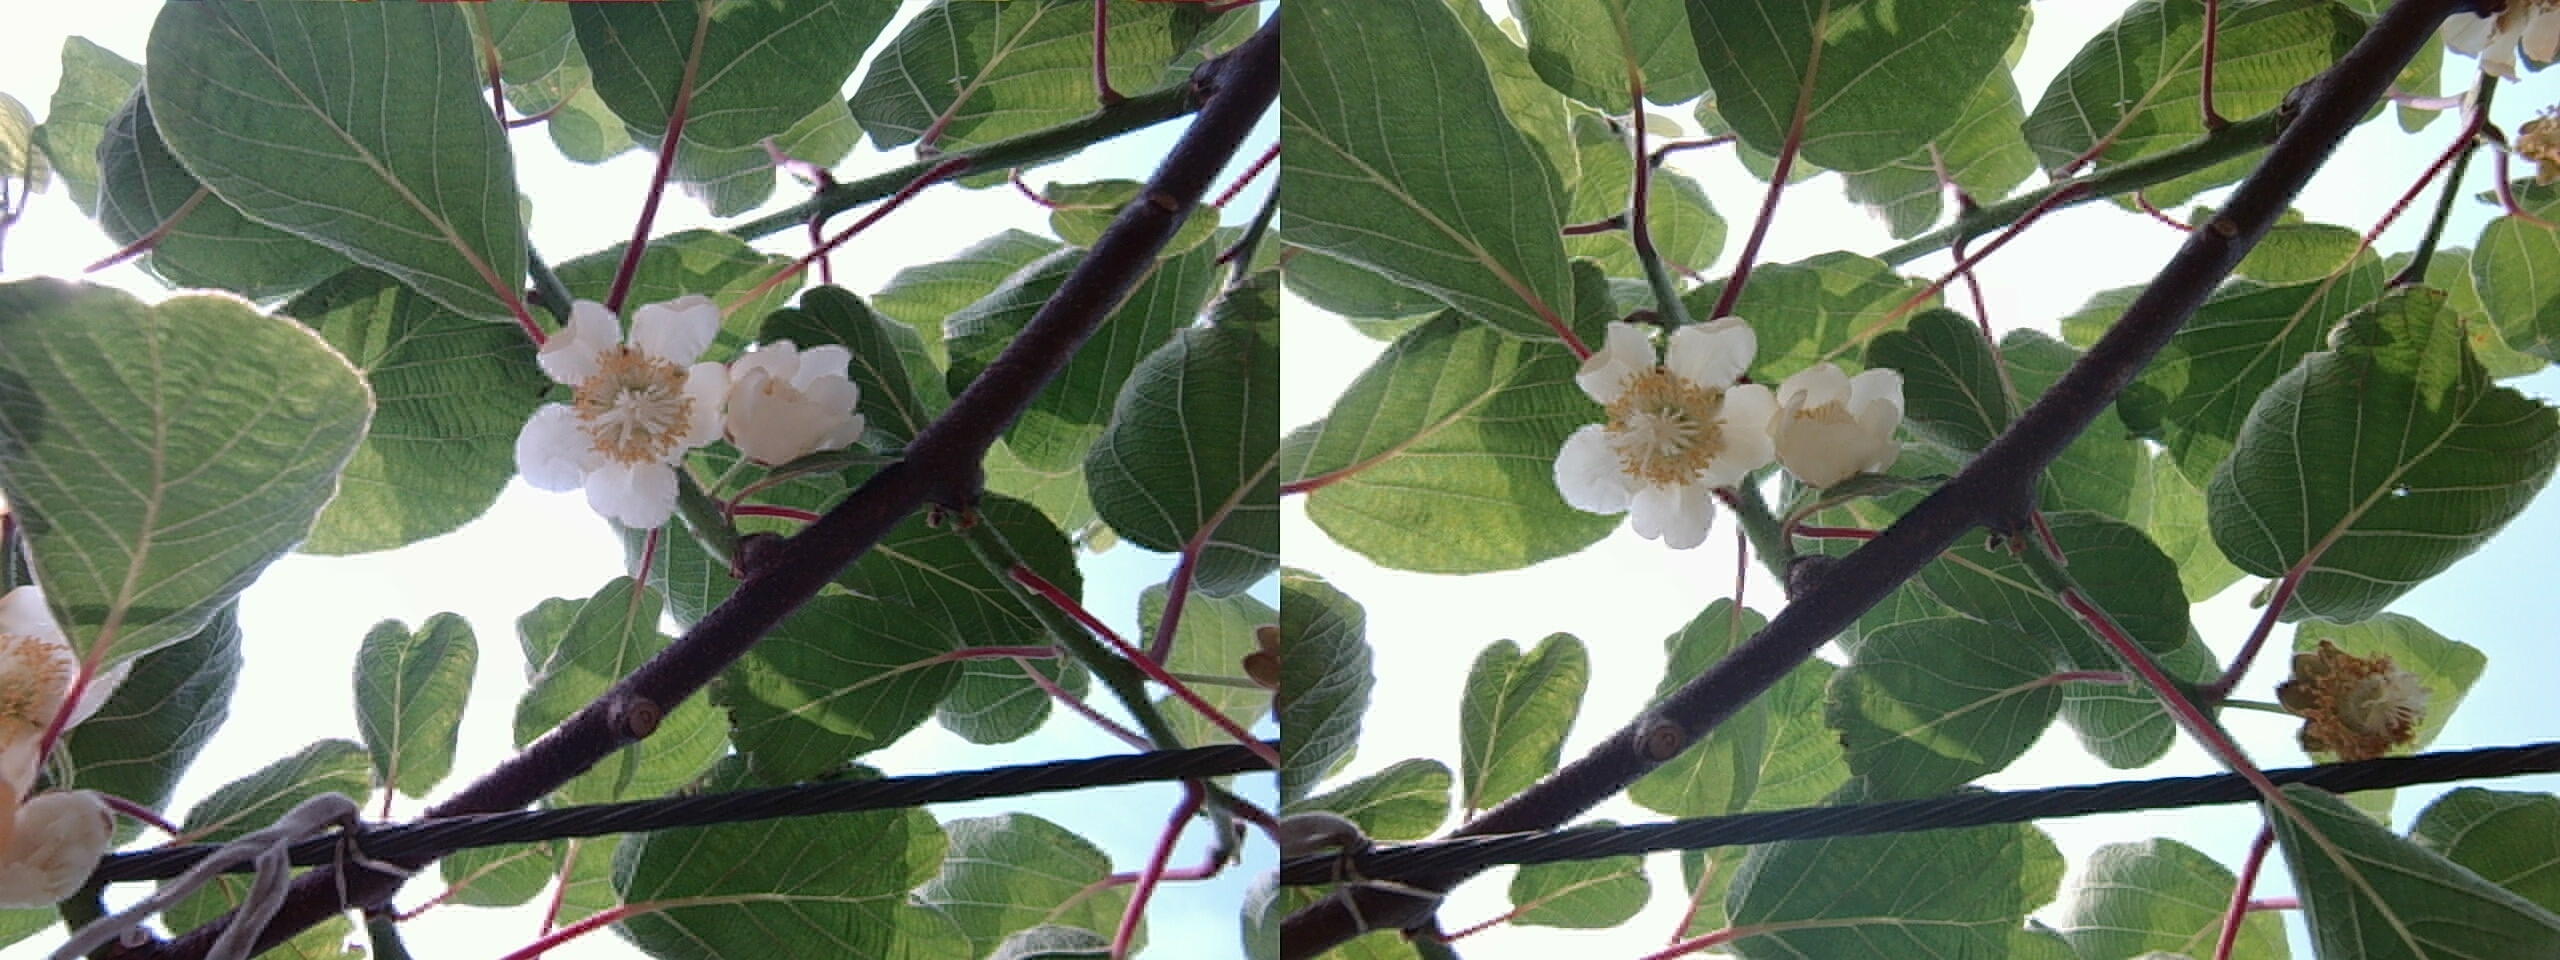flower: (1544, 302, 1780, 545), (513, 292, 736, 536)
